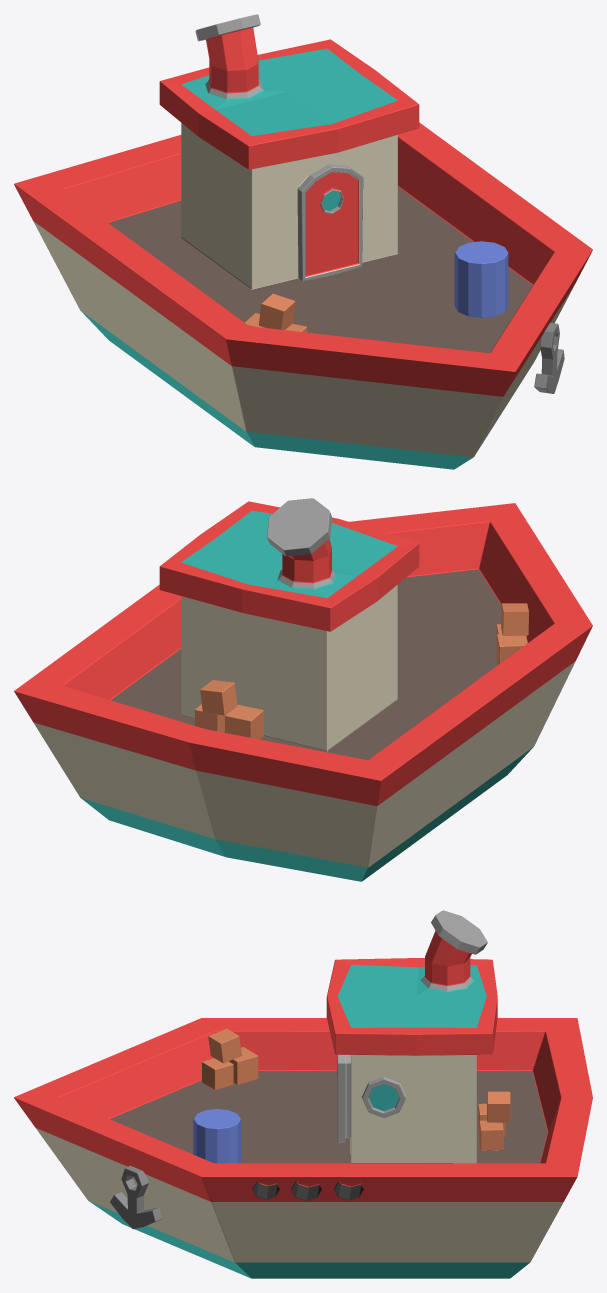
The model's file is gemi.fbx.
3 renders of one model, top to bottom at view 1: azimuth 30°, elevation 25°; view 2: azimuth 150°, elevation 25°; view 3: azimuth 270°, elevation 25°, orthographic. The views are drawn at different scales.
Parts seen in each view (by area): view 1: Plane; view 2: Plane; view 3: Plane.
Part boxes in pixels (x1,y1,x2,y2): Plane: (14, 14, 592, 469); Plane: (14, 498, 592, 881); Plane: (14, 910, 592, 1278).
Bounding box in the file's own units: 262 × 225 × 403.
